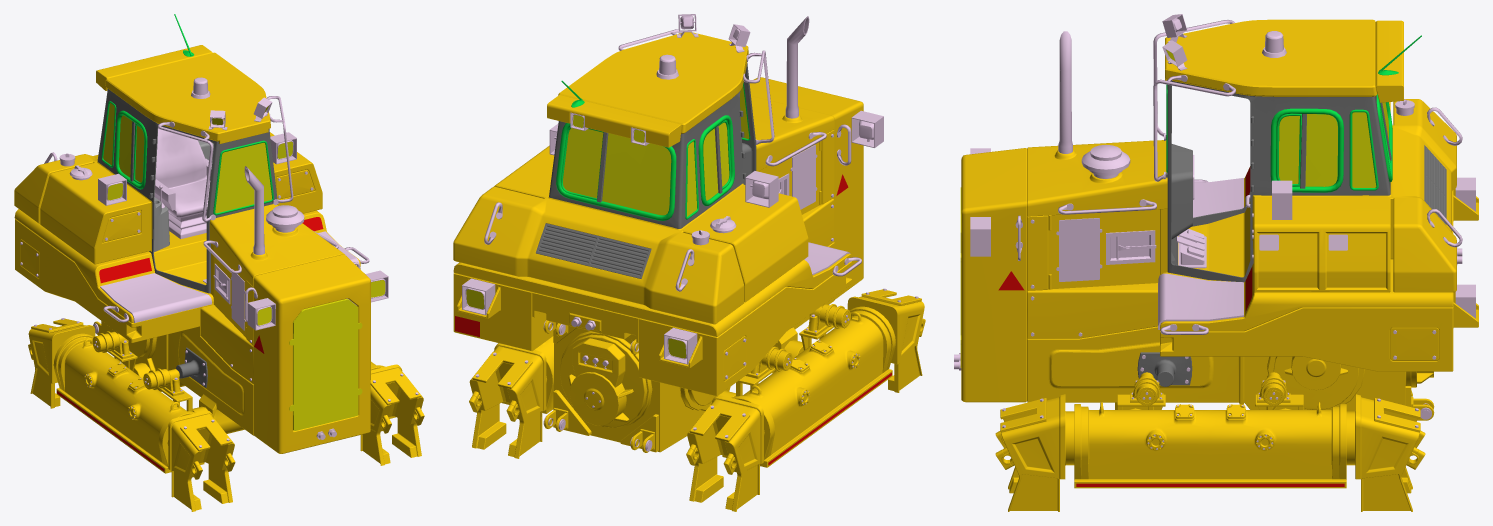
The model's file is Earthmover_Body_01a_snaps005.fbx.
3 renders of one model, left to right at view 1: azimuth 30°, elevation 25°; view 2: azimuth 150°, elevation 25°; view 3: azimuth 270°, elevation 25°, orthographic. The views are drawn at different scales.
Visible parts, largest first — view 1: Earthmover_Body_01a_snaps005; view 2: Earthmover_Body_01a_snaps005; view 3: Earthmover_Body_01a_snaps005.
Part boxes in pixels (box(x1,y1,x2,y2)): Earthmover_Body_01a_snaps005: box(14, 14, 424, 511); Earthmover_Body_01a_snaps005: box(453, 14, 925, 511); Earthmover_Body_01a_snaps005: box(954, 14, 1478, 511).
Bounding box in the file's own units: 310 × 404 × 450.
